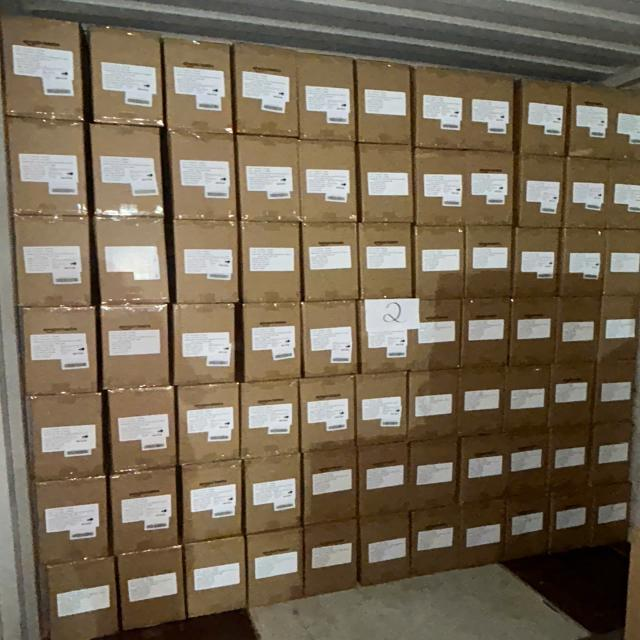Carton: (3, 13, 85, 122), (90, 23, 166, 128), (359, 299, 464, 375), (8, 118, 90, 215), (13, 217, 92, 310), (20, 309, 100, 396), (92, 123, 166, 217), (28, 393, 106, 482), (166, 34, 236, 133), (96, 214, 171, 304), (234, 38, 300, 137), (35, 480, 110, 567), (170, 134, 240, 224), (44, 555, 118, 638), (108, 386, 177, 472), (103, 306, 172, 391), (110, 468, 178, 554), (175, 217, 241, 304), (239, 136, 303, 225), (117, 546, 184, 630), (174, 305, 238, 389), (179, 384, 242, 468), (180, 462, 243, 544), (184, 536, 246, 619), (410, 66, 469, 152), (301, 56, 358, 145), (239, 223, 300, 306), (302, 141, 361, 226), (561, 157, 628, 230), (411, 147, 470, 229), (246, 304, 305, 386), (356, 61, 412, 147), (461, 148, 518, 232), (238, 381, 298, 459), (247, 528, 304, 610), (245, 457, 303, 537), (358, 141, 413, 224), (301, 220, 358, 300), (305, 300, 361, 378), (302, 520, 358, 598), (305, 451, 361, 528), (458, 431, 515, 506), (301, 378, 357, 454), (517, 79, 569, 159), (359, 224, 412, 301), (467, 71, 516, 152), (458, 494, 510, 569), (356, 442, 407, 518), (355, 371, 407, 444), (412, 228, 463, 302), (406, 370, 458, 442), (359, 513, 410, 586), (410, 437, 460, 511), (519, 154, 567, 230), (566, 84, 614, 160), (411, 508, 462, 579), (466, 227, 515, 300), (462, 296, 512, 367), (512, 229, 559, 300), (460, 364, 507, 434), (546, 485, 591, 557), (507, 492, 553, 561), (509, 300, 555, 368), (585, 479, 630, 548), (558, 230, 603, 298), (550, 364, 596, 429), (556, 298, 601, 364), (504, 363, 548, 430), (595, 359, 640, 422), (588, 422, 633, 484), (547, 424, 591, 482), (601, 297, 640, 361), (605, 230, 640, 297), (512, 431, 552, 488), (612, 164, 640, 233)
